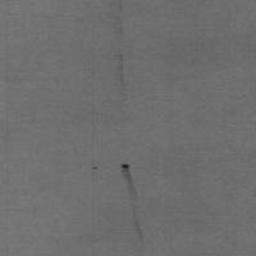Inclusion: (120, 161, 146, 241), (110, 0, 127, 90), (91, 164, 100, 170)
